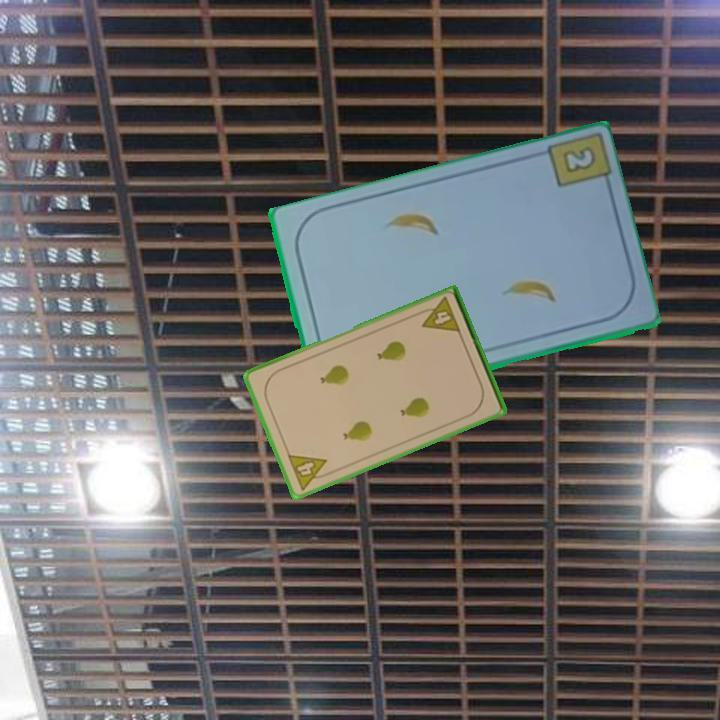2b: (558, 143, 599, 177)
4p: (284, 451, 334, 493), (414, 294, 463, 336)
